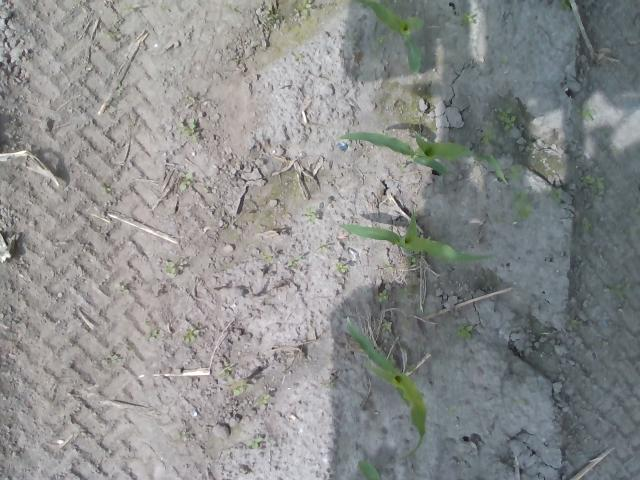Maize: (342, 317, 430, 462), (339, 130, 510, 186), (337, 208, 497, 265), (359, 0, 428, 78)
Weeds: (512, 192, 532, 220), (494, 105, 516, 129), (580, 174, 606, 190), (398, 286, 417, 306), (480, 127, 500, 144), (178, 170, 193, 190), (178, 120, 196, 136), (296, 0, 314, 16), (232, 383, 255, 395), (455, 324, 475, 335), (306, 207, 318, 225), (579, 107, 593, 120), (376, 288, 388, 302), (184, 329, 196, 342), (256, 394, 271, 404), (164, 262, 176, 274), (250, 438, 262, 449), (568, 319, 580, 330), (508, 167, 520, 178), (376, 36, 389, 46), (462, 13, 475, 22), (336, 264, 348, 273), (550, 190, 560, 200), (110, 354, 120, 364), (222, 367, 232, 376), (382, 323, 390, 332), (398, 163, 407, 171), (152, 330, 160, 336)
